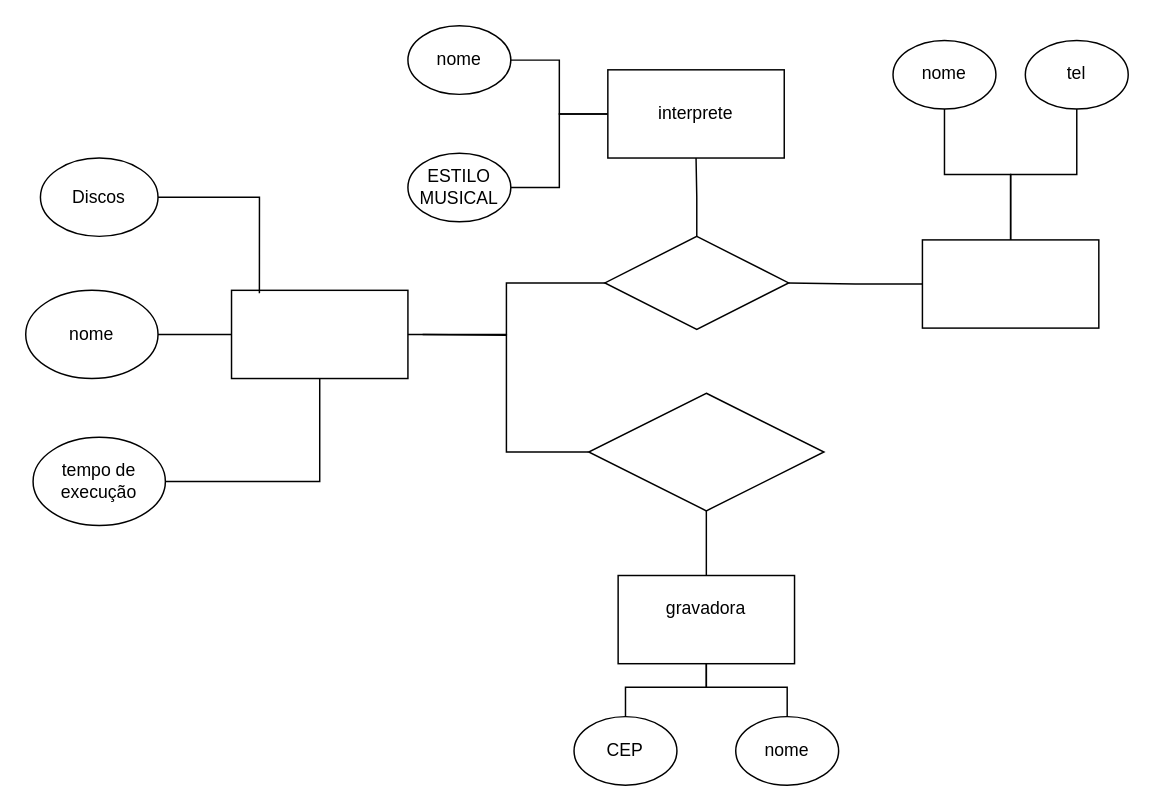
This 1154x811 diagram has some shape labels left out. The box of each missing label's shape, as (x1, y1, x2, y2) in pixels:
musica: (230, 289, 408, 379)
musicos: (921, 238, 1099, 328)
possuem: (603, 235, 789, 329)
relação: (587, 392, 824, 511)
